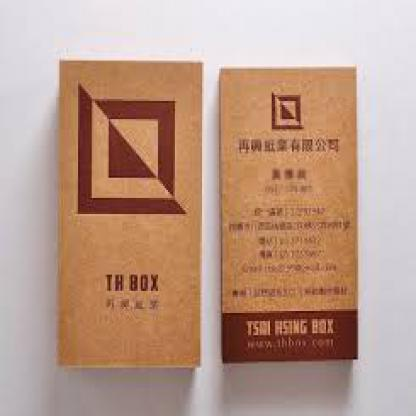CARDBOARD: (54, 56, 199, 367), (218, 64, 356, 362)
